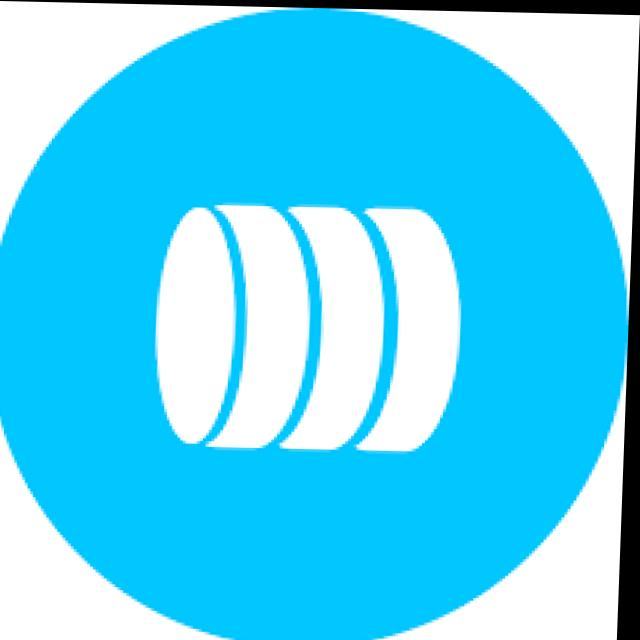Database: (125, 158, 507, 486)
